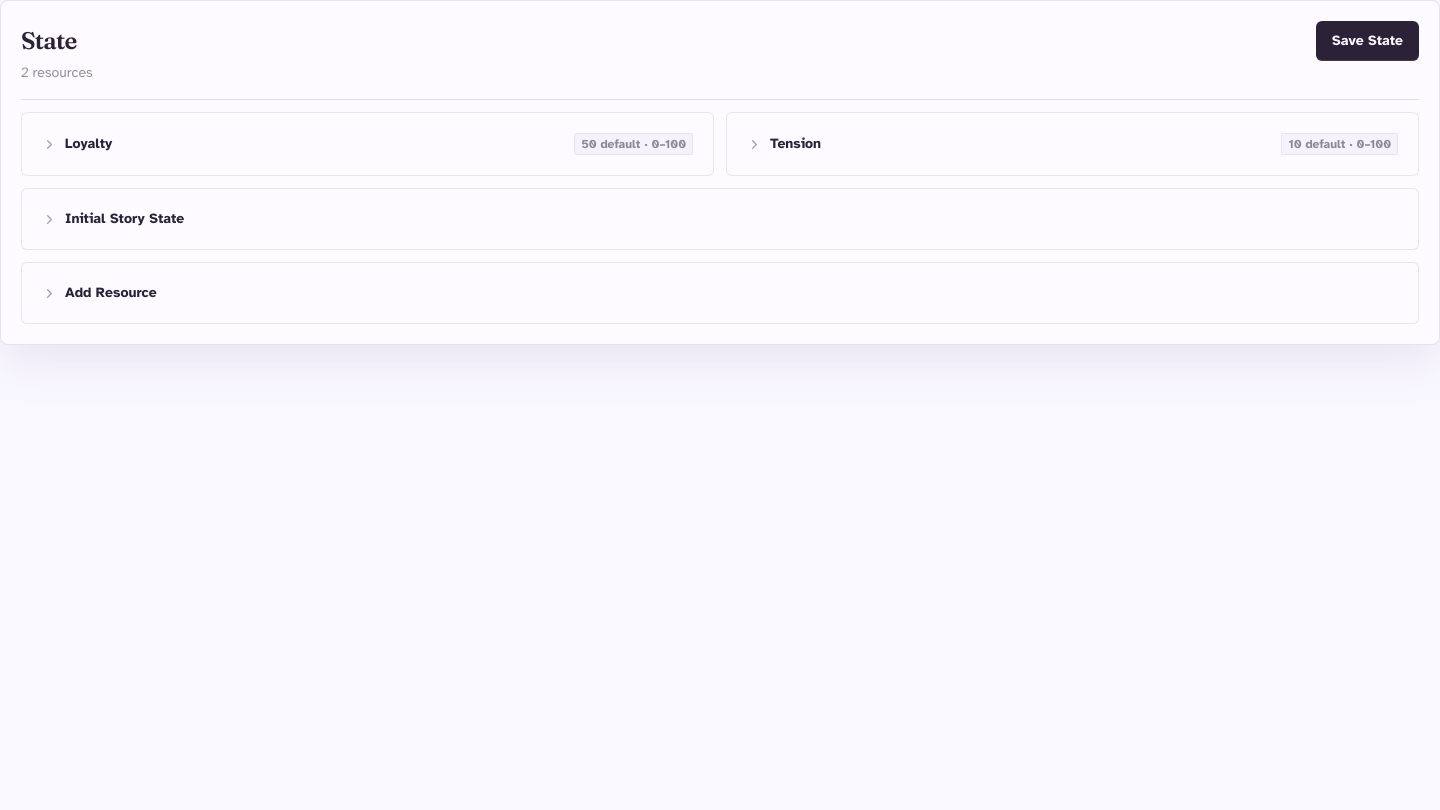
Test: StateView › expanding a resource card reveals all six detail fields
Click the button "Loyalty 50 default · 0–100" at {"x": 89, "y": 144}, box [38, 129, 697, 159]
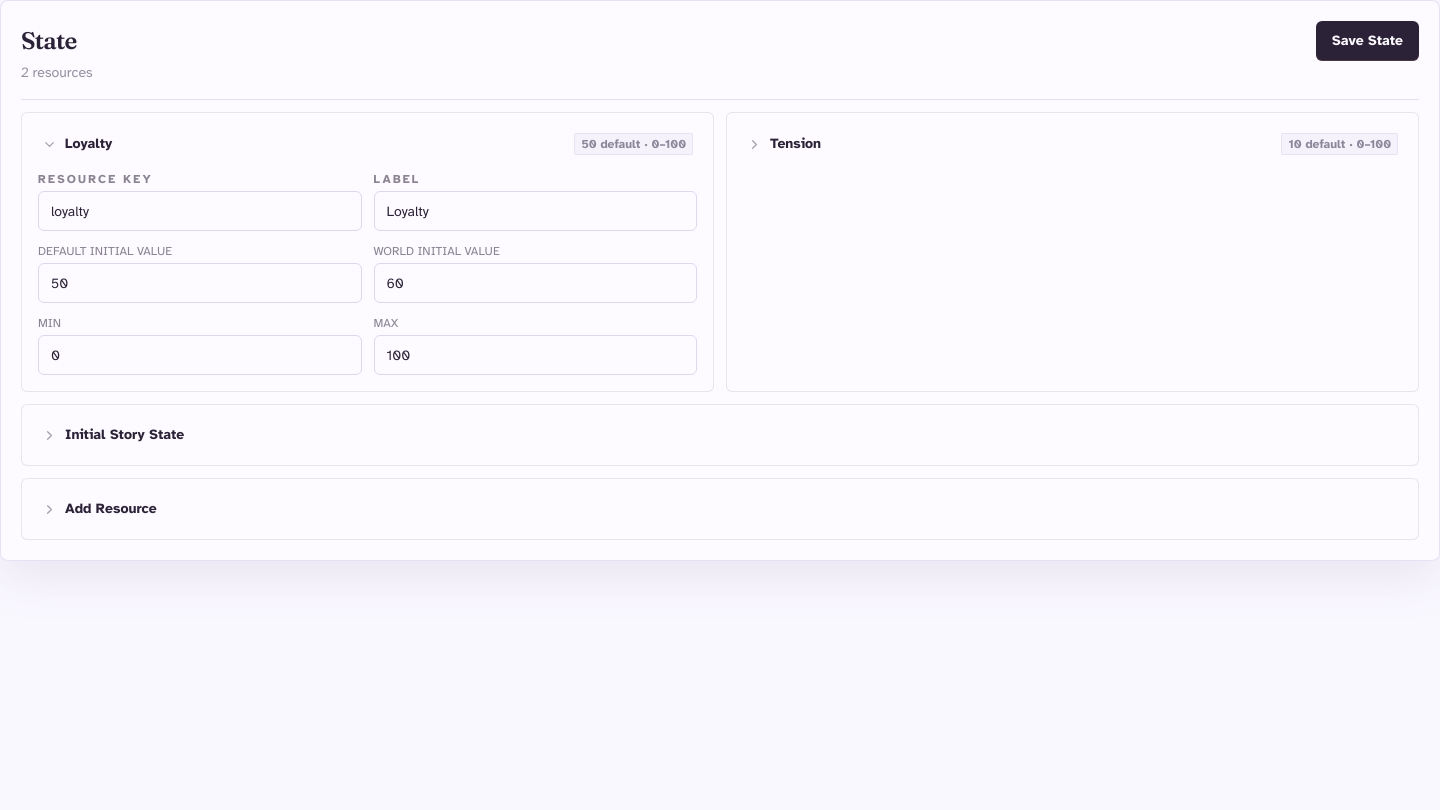
expect the field named "Resource key 1" is shown: met, box [38, 191, 362, 231]
expect the field named "Resource label 1" is shown: met, box [374, 191, 697, 231]
expect the number field named "Resource default initial value 1" is shown: met, box [38, 263, 362, 303]
